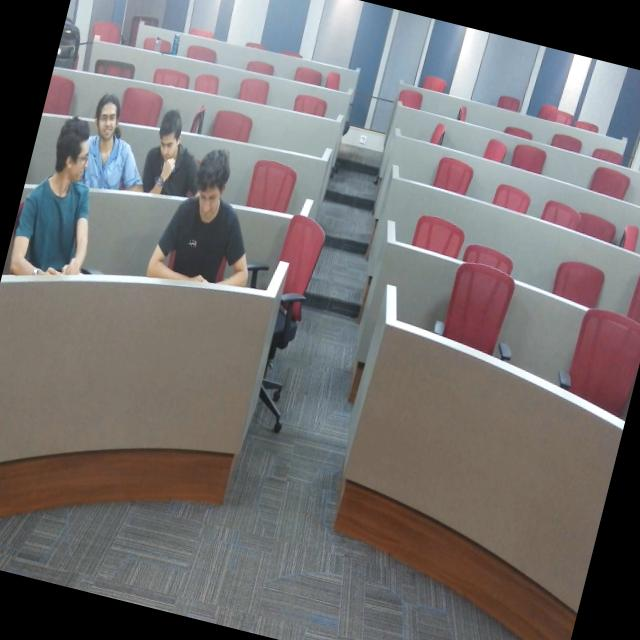cheating: (5, 126, 110, 302)
non-cheating: (138, 128, 258, 334), (126, 90, 207, 210)
